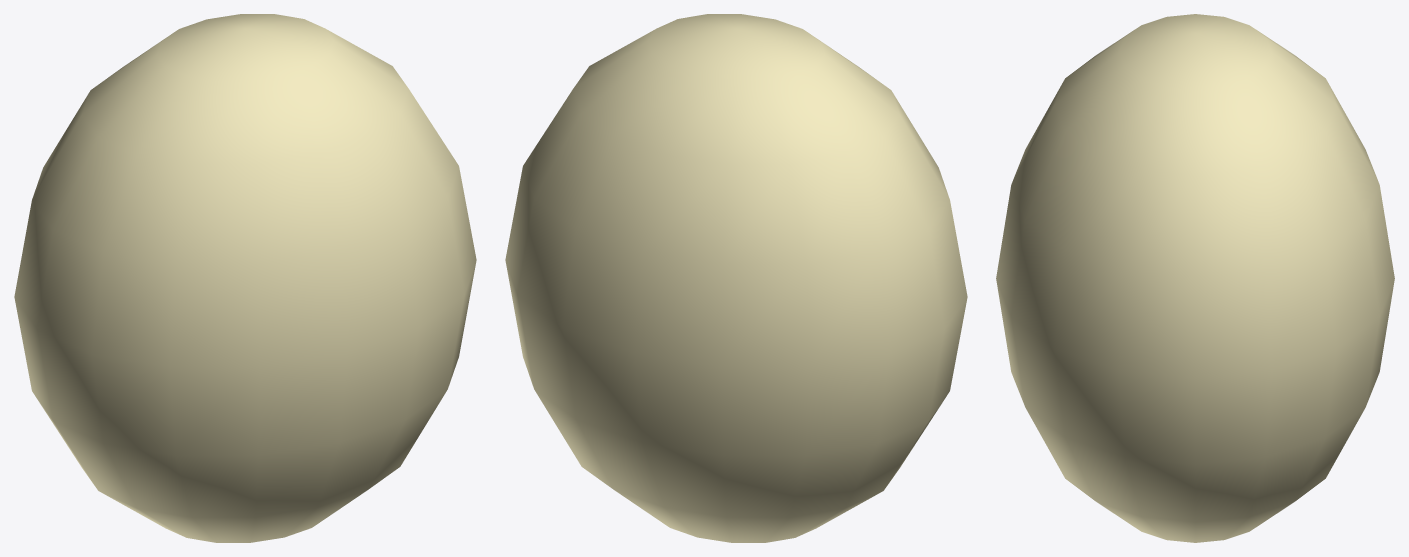
The model's file is CMU3DFoodEggCreamExtraCloud.glb.
3 views of the same model, side by side, from view 1: azimuth 30°, elevation 25°; view 2: azimuth 150°, elevation 25°; view 3: azimuth 270°, elevation 25° (orthographic).
Parts seen in each view (by area): view 1: continuous oval eggshell; view 2: continuous oval eggshell; view 3: continuous oval eggshell.
Part boxes in pixels (left/top/right/bottom): continuous oval eggshell: left=14, top=14, right=476, bottom=542; continuous oval eggshell: left=505, top=14, right=967, bottom=542; continuous oval eggshell: left=996, top=14, right=1394, bottom=542.
Size of the model in its own units: 0.246 by 0.282 by 0.208.
